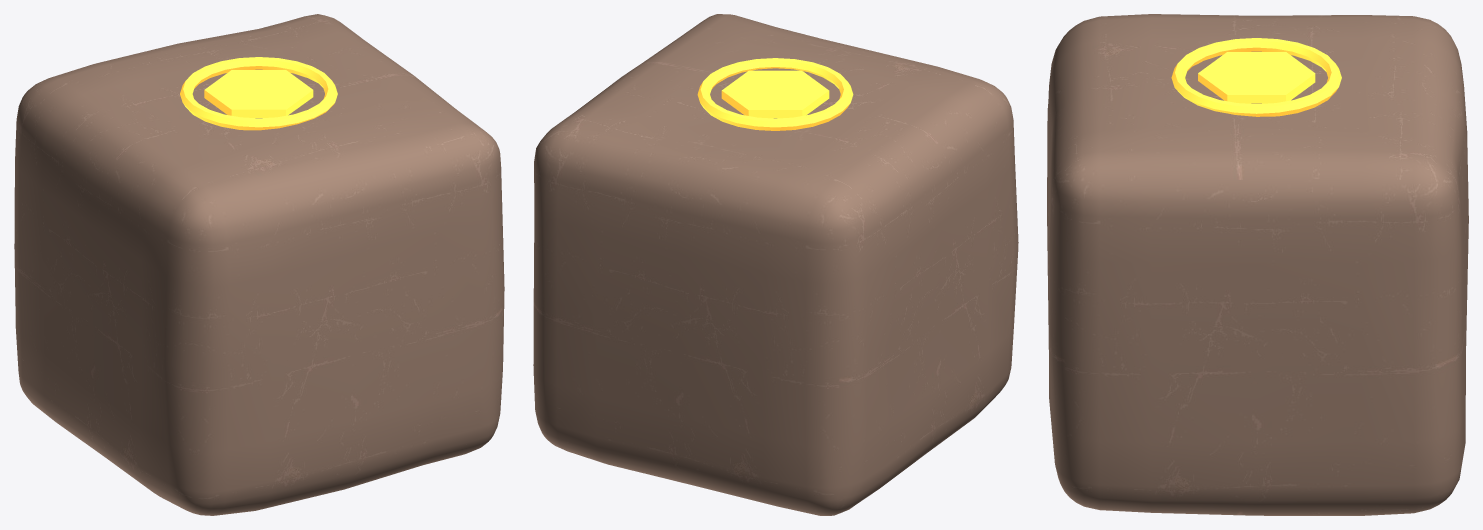
The model's file is stone_block.glb.
The picture shows the model from 3 angles, left to right: view 1: azimuth 30°, elevation 25°; view 2: azimuth 150°, elevation 25°; view 3: azimuth 270°, elevation 25°; orthographic projection. The views are drawn at different scales.
Parts seen in each view (by area): view 1: stone_block; view 2: stone_block; view 3: stone_block.
Part boxes in pixels (left/top/right/bottom): stone_block: left=14, top=14, right=504, bottom=515; stone_block: left=533, top=14, right=1018, bottom=515; stone_block: left=1047, top=14, right=1468, bottom=515.
Size of the model in its own units: 0.8633 by 0.8499 by 0.8611.
Materials: 2 (1 with a texture image).
